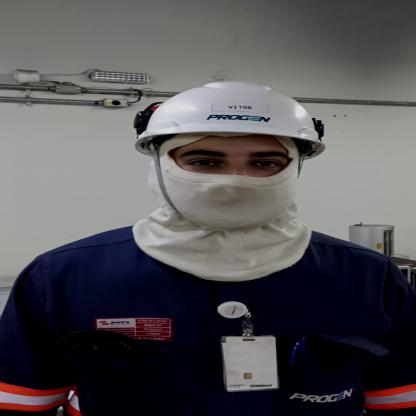Balaclava: (118, 135, 320, 282)
Capacete: (129, 77, 334, 156)
